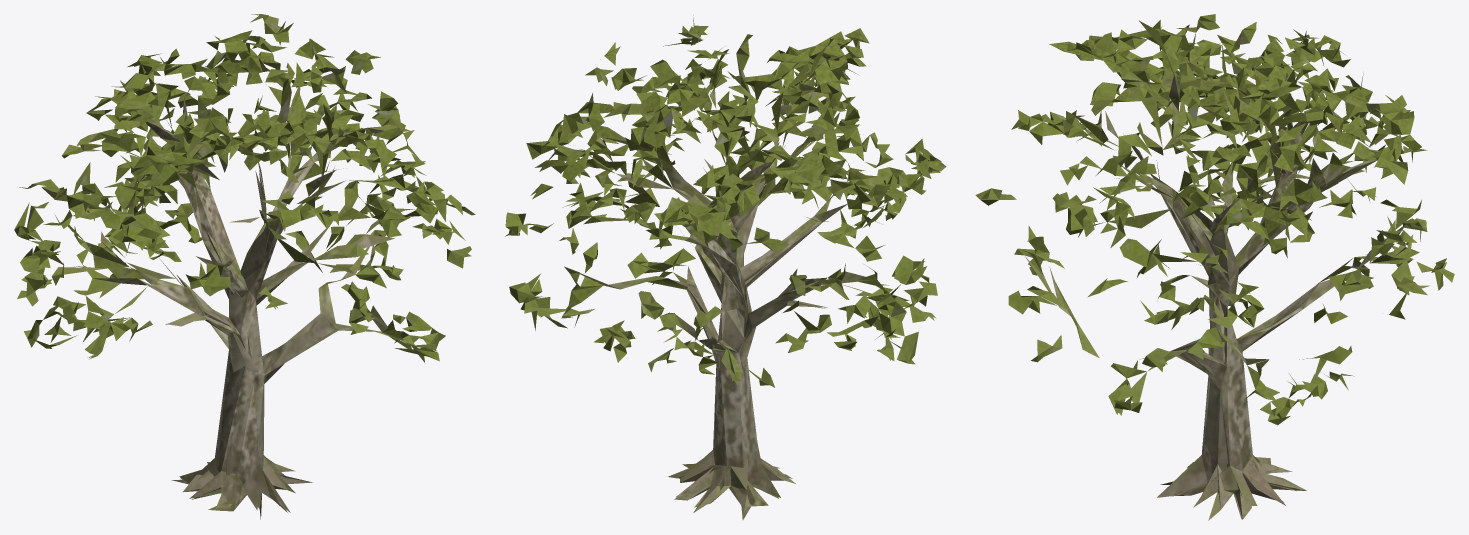
Rendered from prop_tree_plane.glb.
3 views of the same model, side by side, from view 1: azimuth 30°, elevation 25°; view 2: azimuth 150°, elevation 25°; view 3: azimuth 270°, elevation 25° (orthographic). The views are drawn at different scales.
Parts seen in each view (by area): view 1: Mesh_0; view 2: Mesh_0; view 3: Mesh_0.
Boxes of the visible parts, x1=… form: Mesh_0: x1=14, y1=14, x2=475, y2=519; Mesh_0: x1=505, y1=15, x2=946, y2=520; Mesh_0: x1=975, y1=14, x2=1454, y2=520.
Bounding box in the file's own units: 1.78 × 1.85 × 1.67.
Materials: 1 (1 with a texture image).
